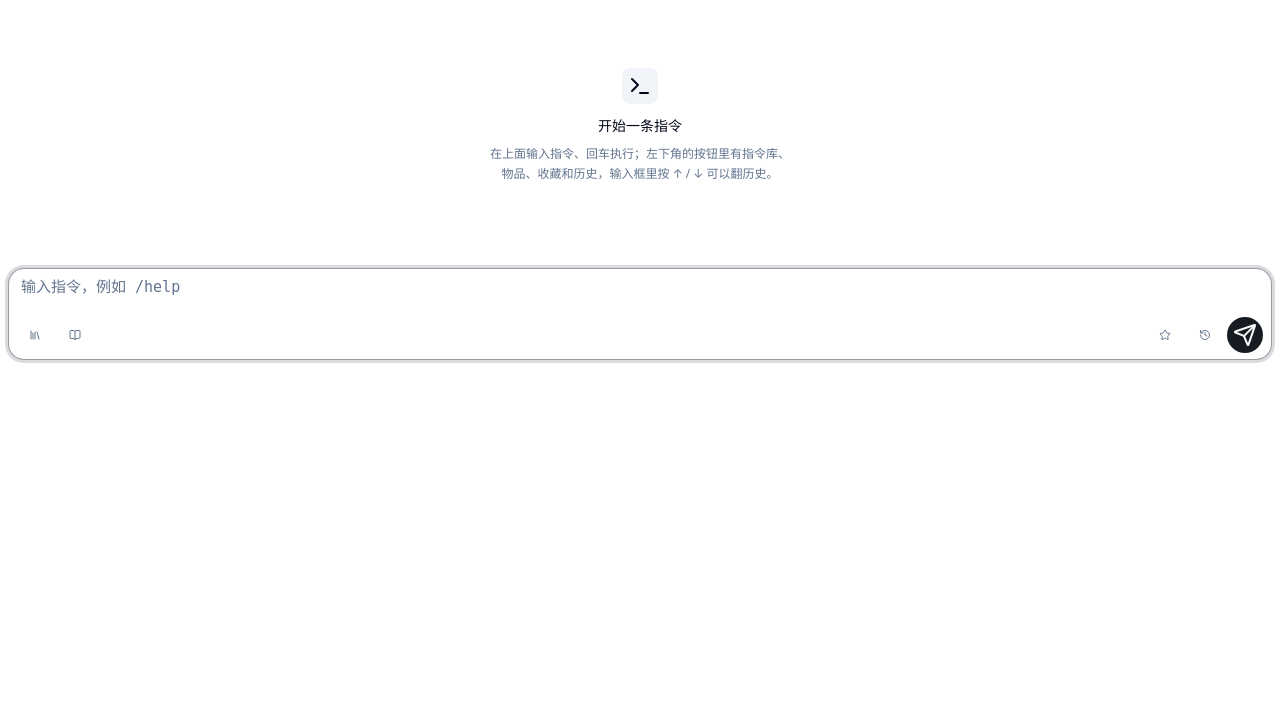
it: CommandPage 工具弹框 › 指令库 tab：列出全部指令，点一条填进输入框并收起弹框
Click the button named "指令库" at (35,335), box [17,317,53,353]
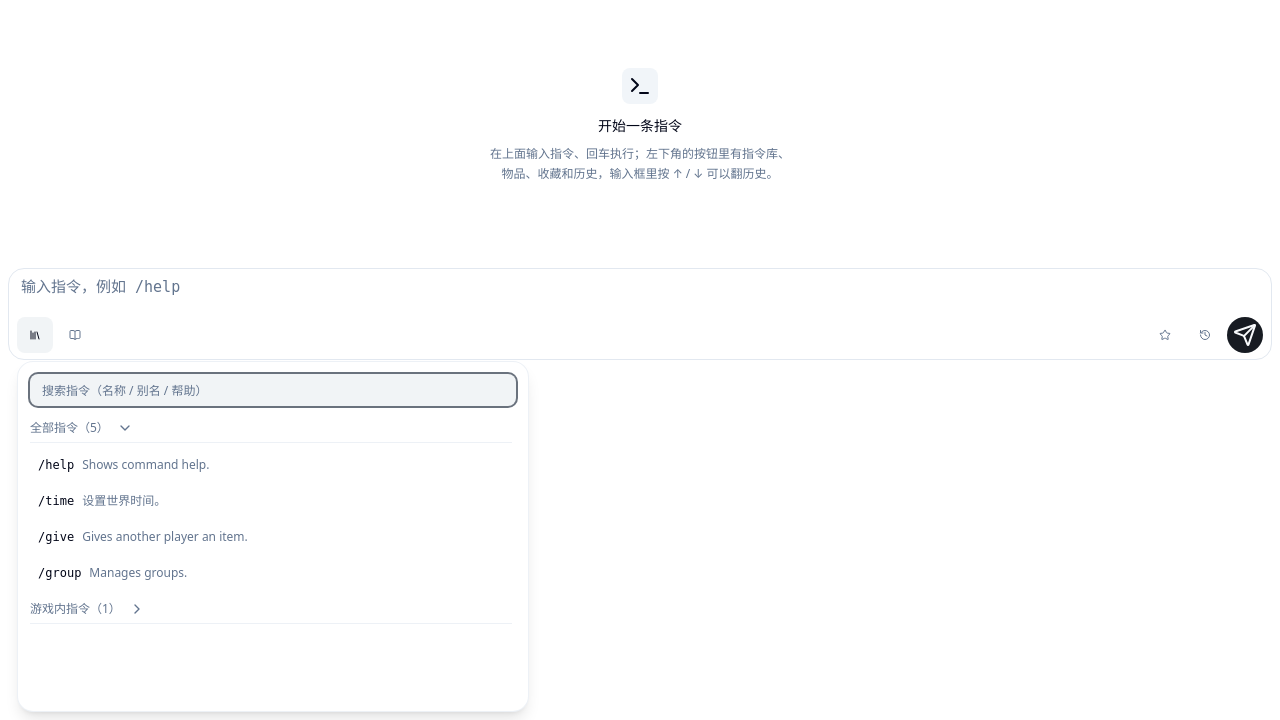
Click the text "/help" at (56,465), box [38,455,74,475]
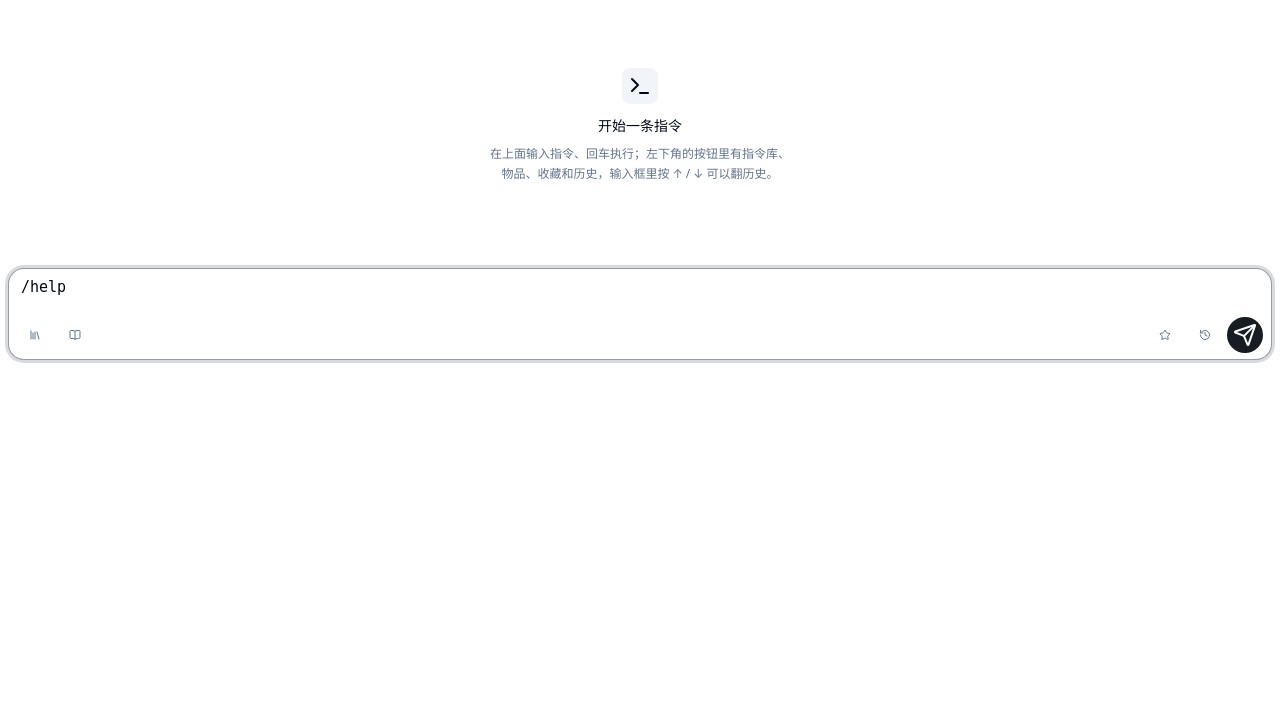
Result: the text box with placeholder "输入指令，例如 /help" holds "/help " at [17,275,1263,307]
Result: the dialog is gone
